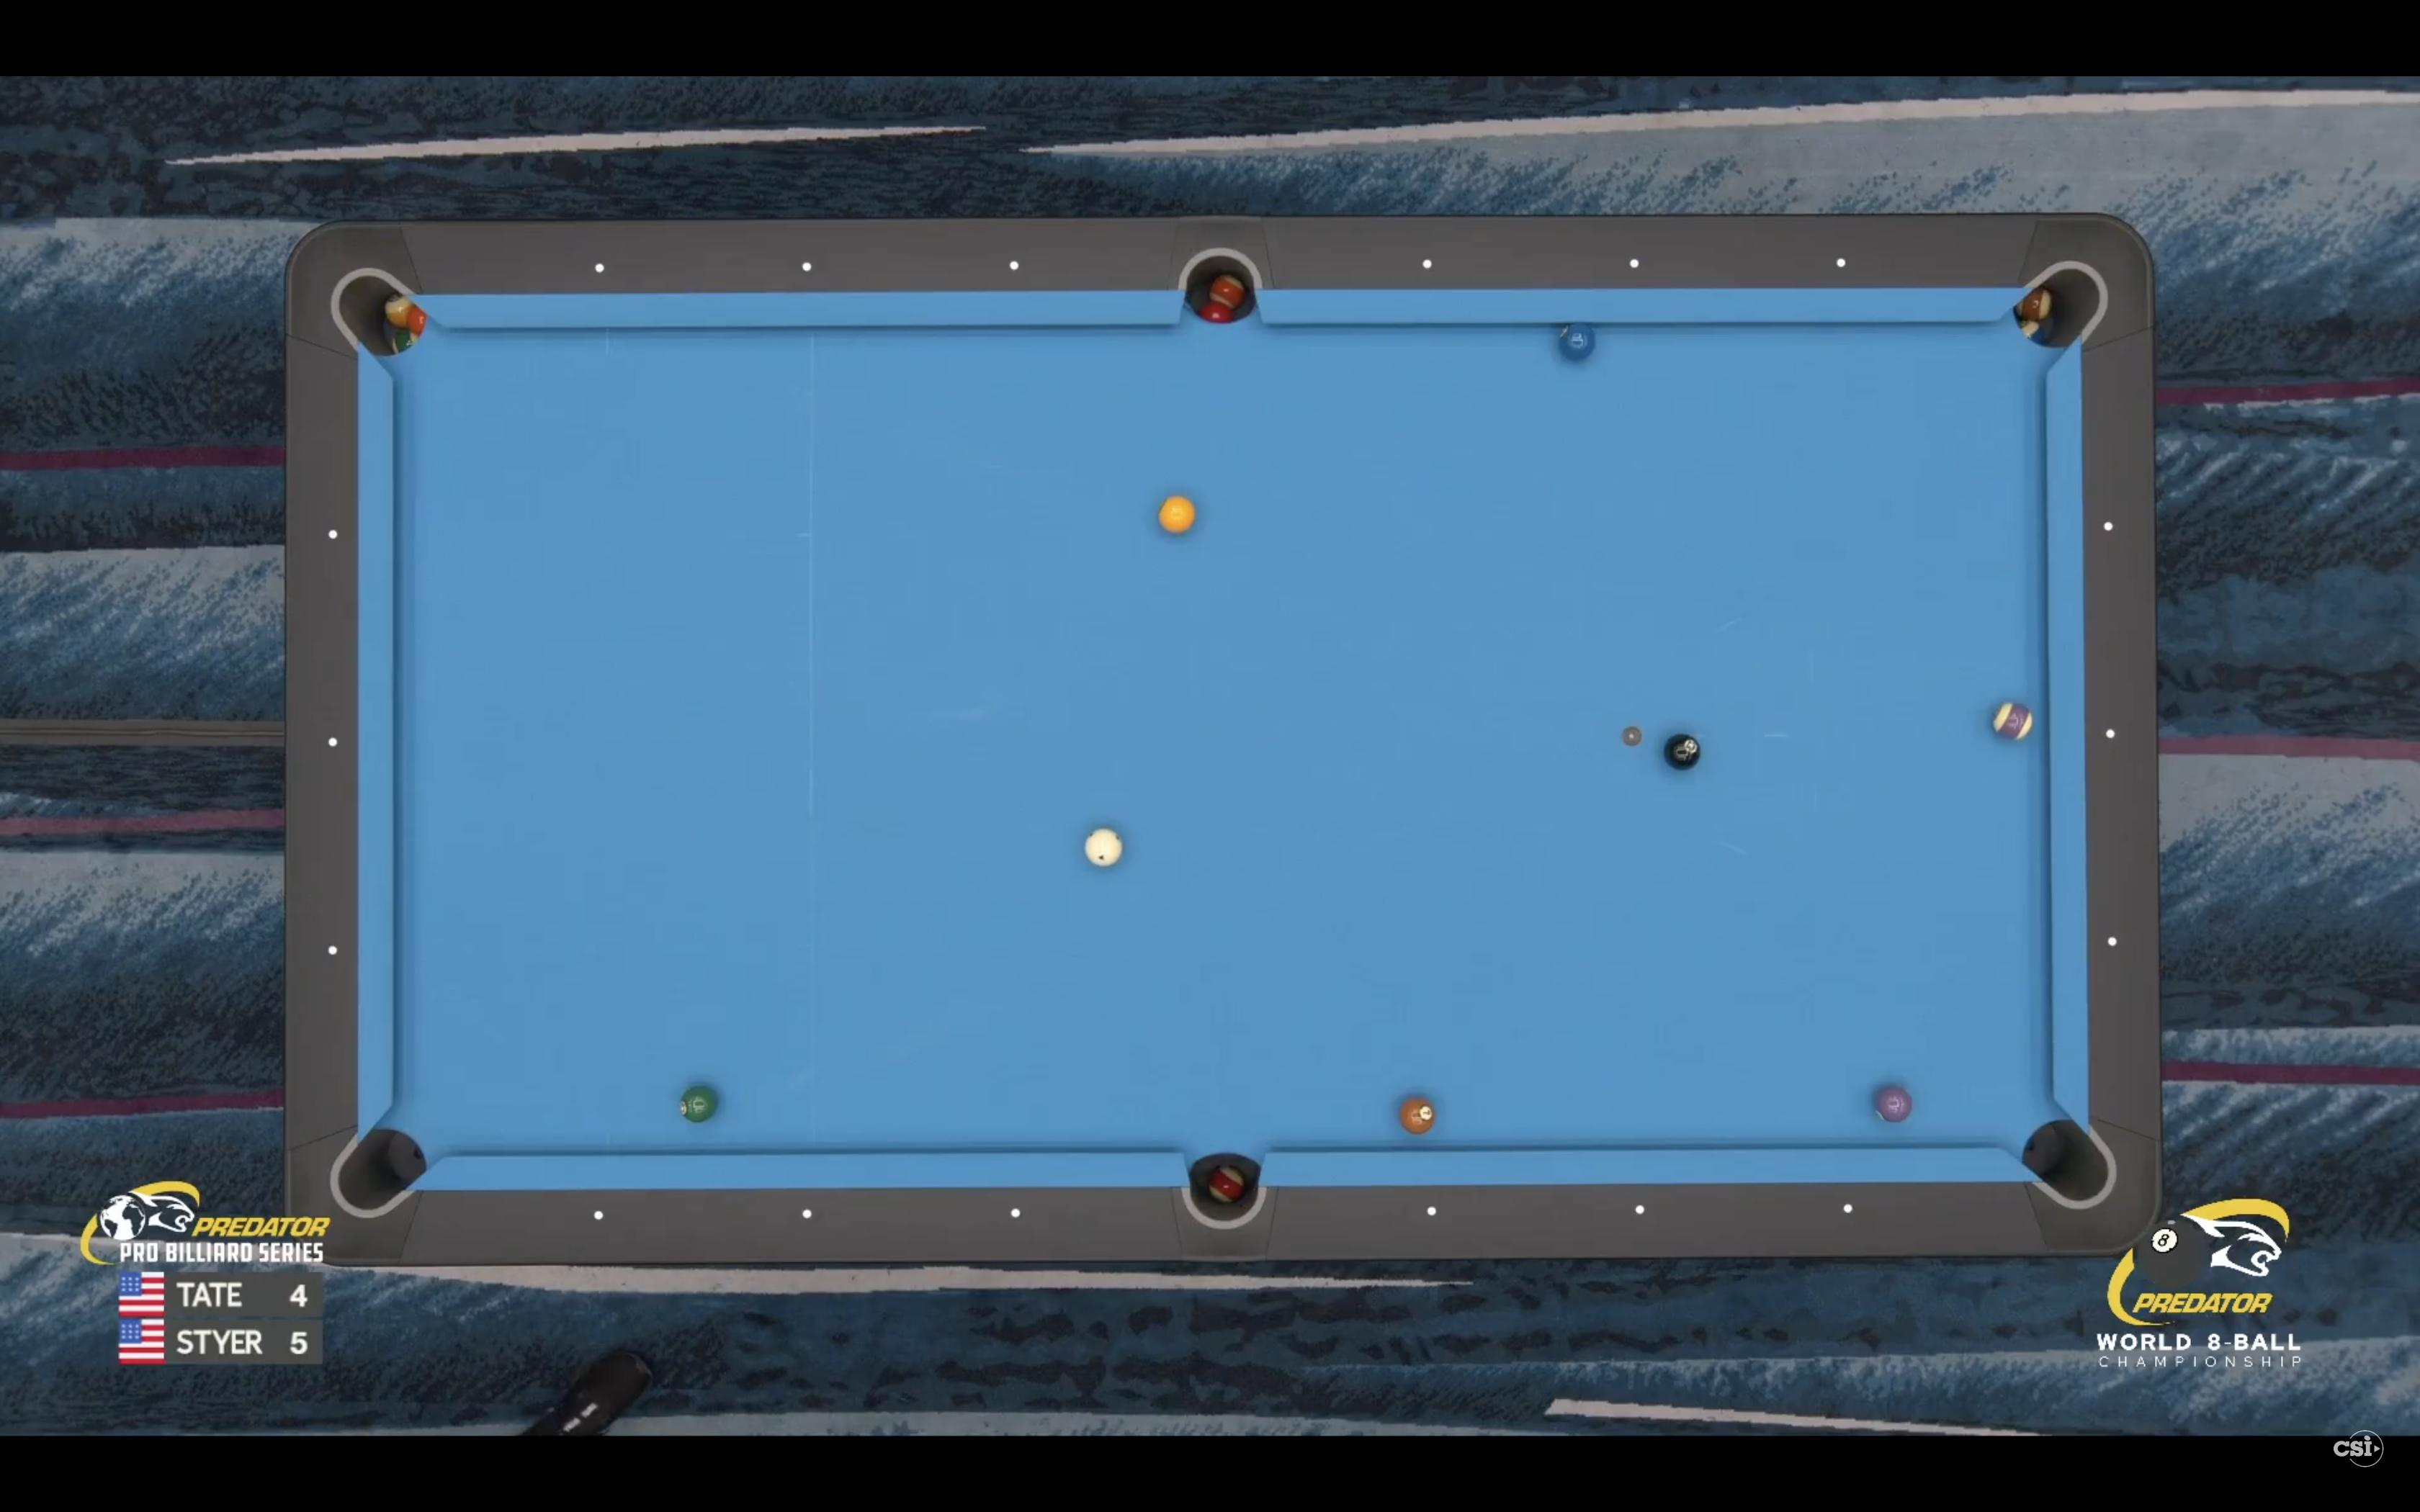Black: (1666, 733, 1700, 770)
Cue: (1085, 829, 1124, 867)
Dot: (1159, 495, 1195, 535), (1011, 1207, 1021, 1219), (1427, 1205, 1437, 1216), (801, 1209, 812, 1219), (801, 261, 812, 272), (1629, 258, 1639, 268), (1836, 258, 1847, 268), (2103, 521, 2113, 531), (328, 946, 338, 955), (329, 530, 338, 540), (596, 263, 605, 273), (1009, 261, 1019, 270), (1422, 260, 1432, 268), (1843, 1204, 1852, 1212), (1636, 1205, 1645, 1214), (594, 1211, 603, 1219), (329, 739, 338, 747), (2106, 730, 2115, 739), (2108, 937, 2117, 946)
Solid: (1873, 1085, 1913, 1124), (1558, 322, 1596, 361), (1159, 495, 1197, 533), (1399, 1097, 1434, 1134), (679, 1087, 716, 1122)
Striped: (1993, 702, 2033, 740)
